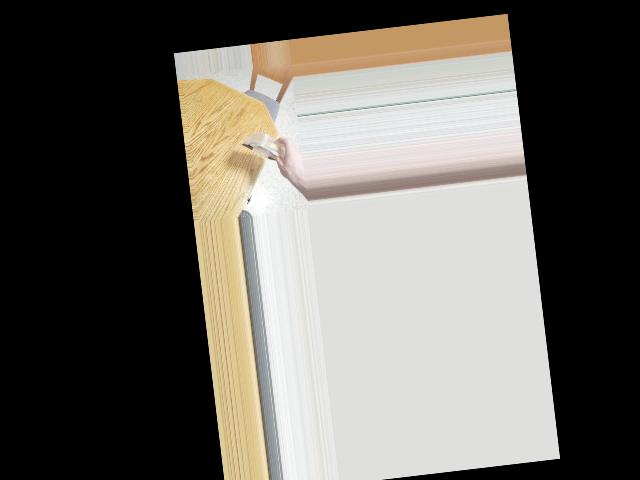cheese: (249, 117, 298, 179)
